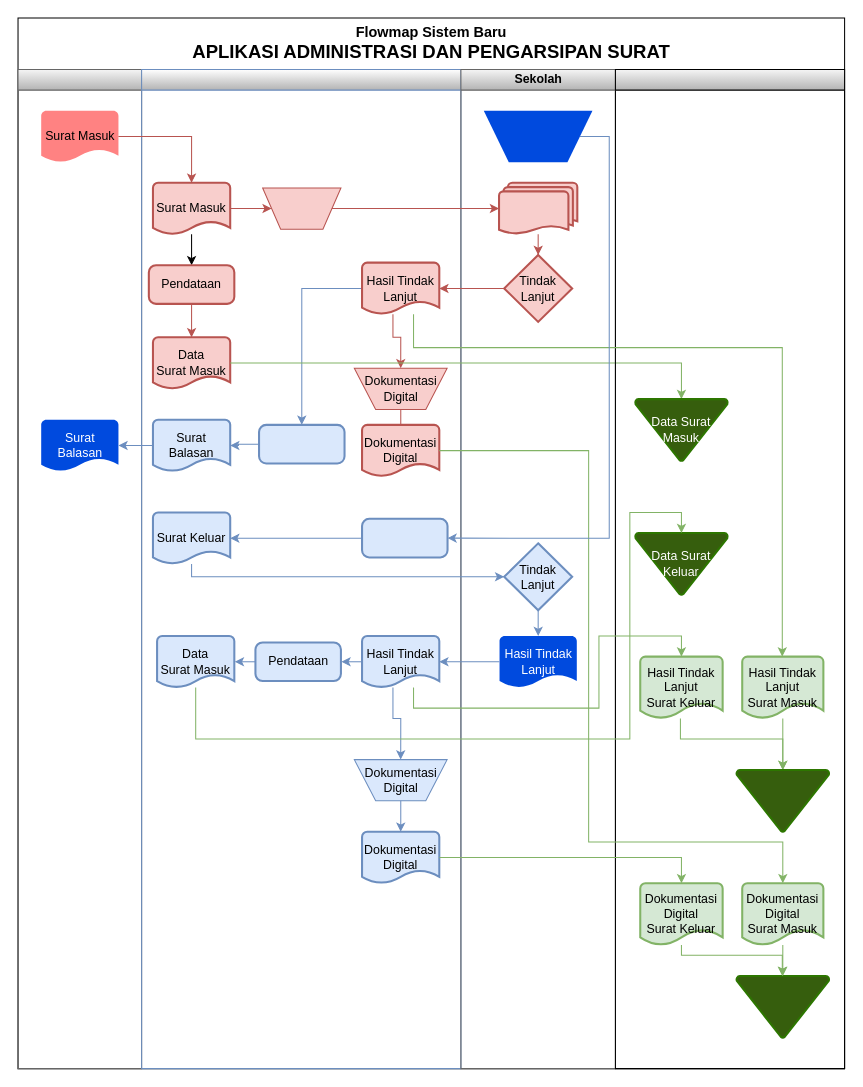
The diagram is 863 pixels wide and 1087 high, and some of its shapes have lost their labels. The shapes that lost their labels are listed below. From the top down, each one's box as (x1, y1, x2, y2) in pixels, then its label:
(483, 110, 592, 162): Permintaan Surat Keluar
(262, 187, 341, 229): Disposisi
(497, 181, 578, 235): Surat Masuk Disposisi
(258, 423, 345, 464): Pembuatan Surat Balasan
(360, 517, 448, 558): Pembuatan Surat Keluar
(17, 68, 142, 1069): Lembaga Luar
(141, 68, 461, 1069): Persuratan TU
(614, 68, 845, 1069): Tata Usaha
(735, 768, 830, 832): Arsip Surat
(735, 974, 830, 1038): Arsip Surat Digital
